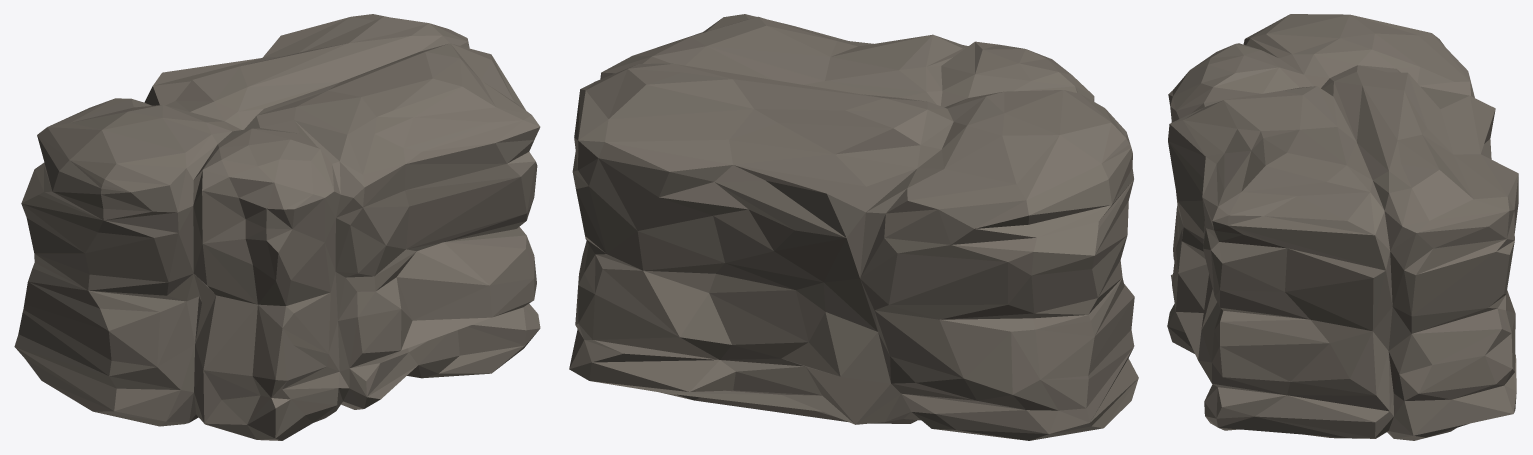
File: SM_Env_Rock_Large_03.glb
3 views of the same model, side by side, from view 1: azimuth 30°, elevation 25°; view 2: azimuth 150°, elevation 25°; view 3: azimuth 270°, elevation 25° (orthographic). The views are drawn at different scales.
Visible parts, largest first — view 1: SM_Env_Rock_Large_03_part00; view 2: SM_Env_Rock_Large_03_part00; view 3: SM_Env_Rock_Large_03_part00.
Boxes of the visible parts, x1,y1,x2,y2 form: SM_Env_Rock_Large_03_part00: [14, 14, 540, 440]; SM_Env_Rock_Large_03_part00: [569, 14, 1138, 440]; SM_Env_Rock_Large_03_part00: [1167, 14, 1518, 440].
Size of the model in its own units: 5.54 by 3.18 by 3.78.
1 material, 1 textured.
